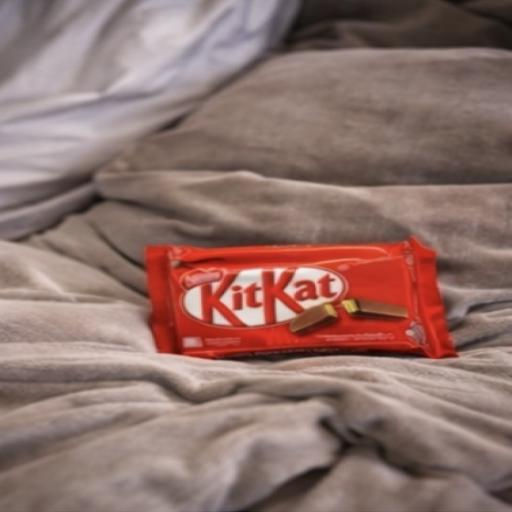kitkat: (110, 203, 489, 417)
